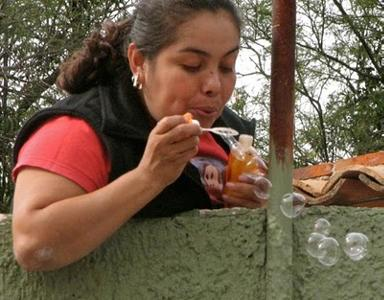person: (12, 3, 280, 273)
